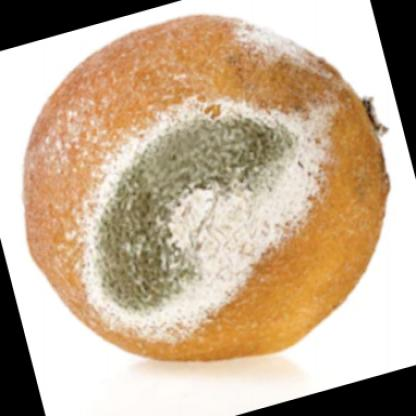rotten_orange: (19, 13, 398, 373)
